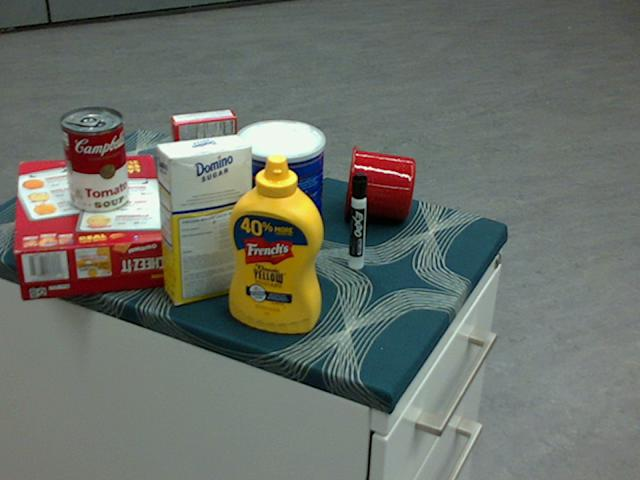cracker_box: (14, 152, 173, 300)
gelatin_box: (170, 109, 236, 170)
large_marker: (349, 172, 367, 269)
master_chef_can: (233, 119, 323, 263)
mug: (342, 144, 414, 219)
mustard_bottle: (229, 153, 323, 333)
potted_meat_can: (223, 129, 305, 214)
sugar_box: (155, 134, 252, 304)
tomato_soup_can: (60, 107, 128, 213)
tuna_fish_can: (161, 157, 191, 226)
